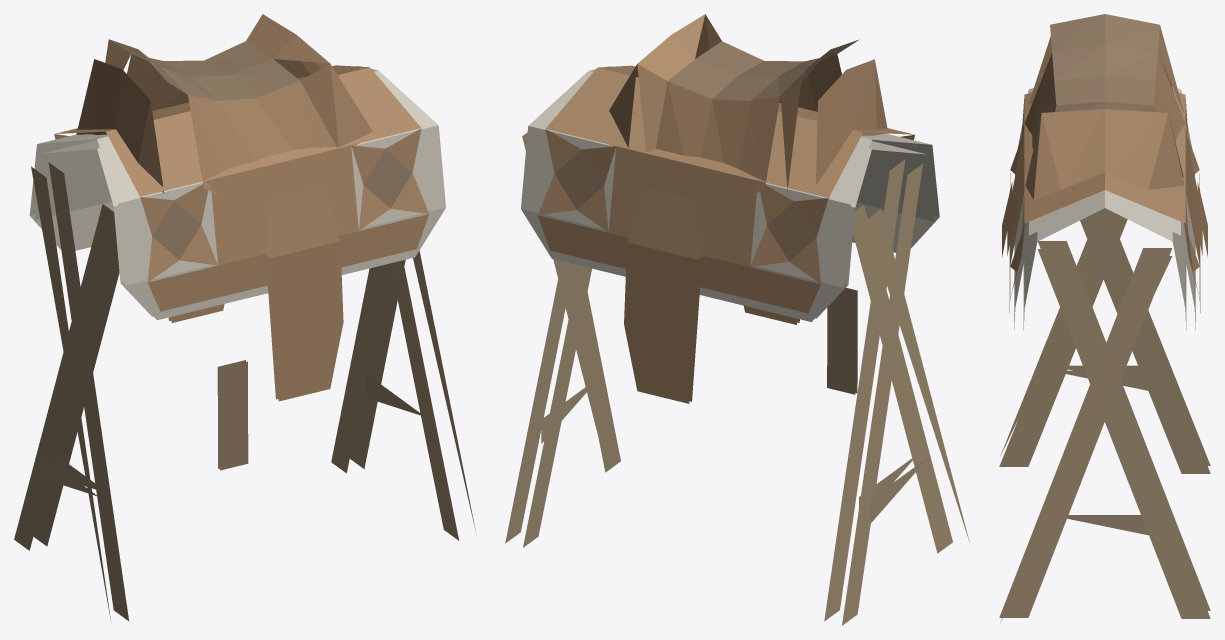
The model's file is chest.lod.glb.
The picture shows the model from 3 angles, left to right: view 1: azimuth 30°, elevation 25°; view 2: azimuth 150°, elevation 25°; view 3: azimuth 270°, elevation 25°; orthographic projection. The views are drawn at different scales.
Visible parts, largest first — view 1: chest; view 2: chest; view 3: chest.
Boxes of the visible parts, bbox=[...] form: chest: bbox=[14, 14, 475, 622]; chest: bbox=[505, 14, 969, 625]; chest: bbox=[999, 14, 1210, 623].
Bounding box in the file's own units: 1.03 × 1.38 × 0.55.
